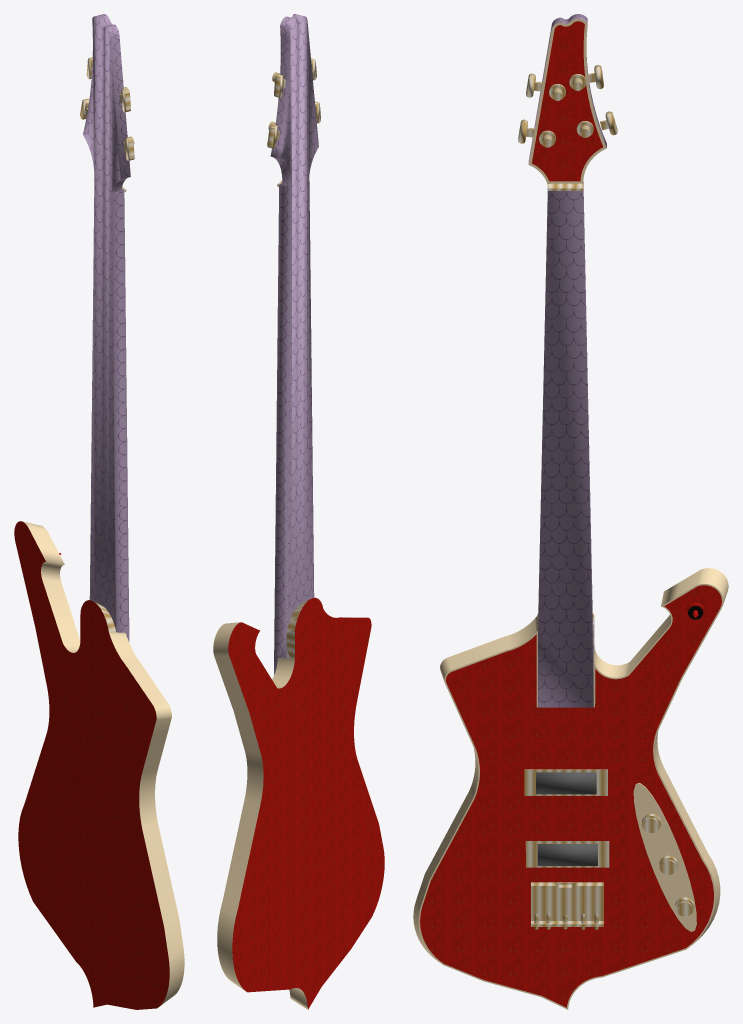
The picture shows the model from 3 angles, left to right: view 1: azimuth 30°, elevation 25°; view 2: azimuth 150°, elevation 25°; view 3: azimuth 270°, elevation 25°; orthographic projection.
Visible parts, largest first — view 1: mesh1-geometry-3, mesh1-geometry-5, mesh1-geometry-4; view 2: mesh1-geometry-3, mesh1-geometry-5, mesh1-geometry-4, mesh1-geometry-2; view 3: mesh1-geometry-3, mesh1-geometry-5, mesh1-geometry-4, mesh1-geometry-2, mesh1-geometry-7.
Part boxes in pixels (x1,y1,x2,y2): mesh1-geometry-3: (14, 521, 169, 1009); mesh1-geometry-5: (83, 14, 130, 641); mesh1-geometry-4: (23, 521, 184, 1005); mesh1-geometry-3: (228, 597, 384, 1009); mesh1-geometry-5: (270, 14, 318, 674); mesh1-geometry-4: (213, 622, 307, 1009); mesh1-geometry-2: (232, 74, 308, 1007); mesh1-geometry-3: (420, 21, 721, 1007); mesh1-geometry-5: (528, 14, 606, 707); mesh1-geometry-4: (413, 18, 728, 1009); mesh1-geometry-2: (524, 65, 694, 929); mesh1-geometry-7: (536, 772, 597, 865).
Size of the model in its own units: 0.0312 by 0.961 by 0.2749.
